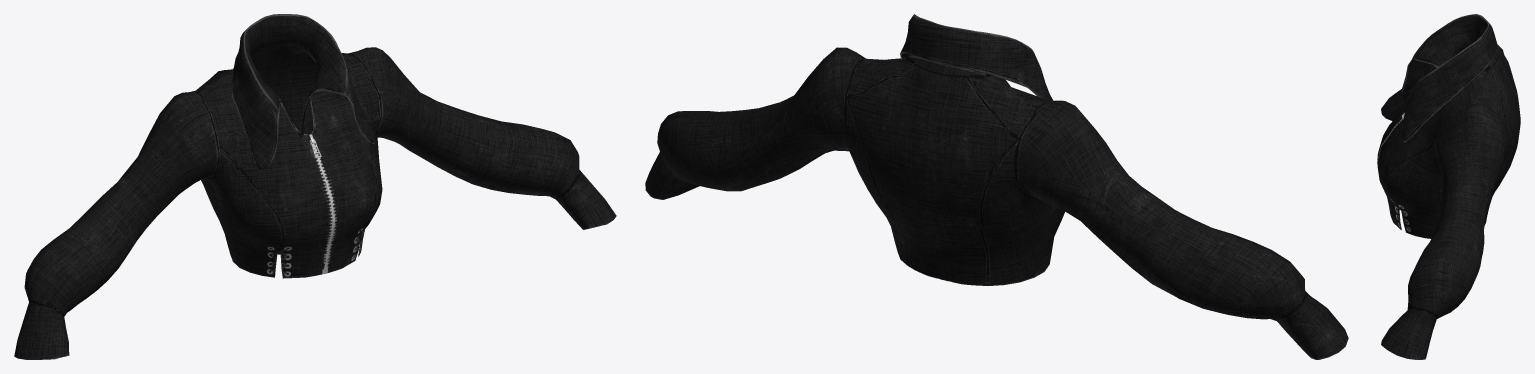
Rendered from jacket.gltf.
3 renders of one model, left to right at view 1: azimuth 30°, elevation 25°; view 2: azimuth 150°, elevation 25°; view 3: azimuth 270°, elevation 25°, orthographic. The views are drawn at different scales.
Visible parts, largest first — view 1: jacket_low; view 2: jacket_low; view 3: jacket_low.
Boxes of the visible parts, left/top/right/bottom form: jacket_low: left=14, top=14, right=616, bottom=359; jacket_low: left=645, top=14, right=1348, bottom=359; jacket_low: left=1377, top=14, right=1520, bottom=359.
Size of the model in its own units: 0.0543 by 0.0213 by 0.0129.
2 materials, 2 textured.
